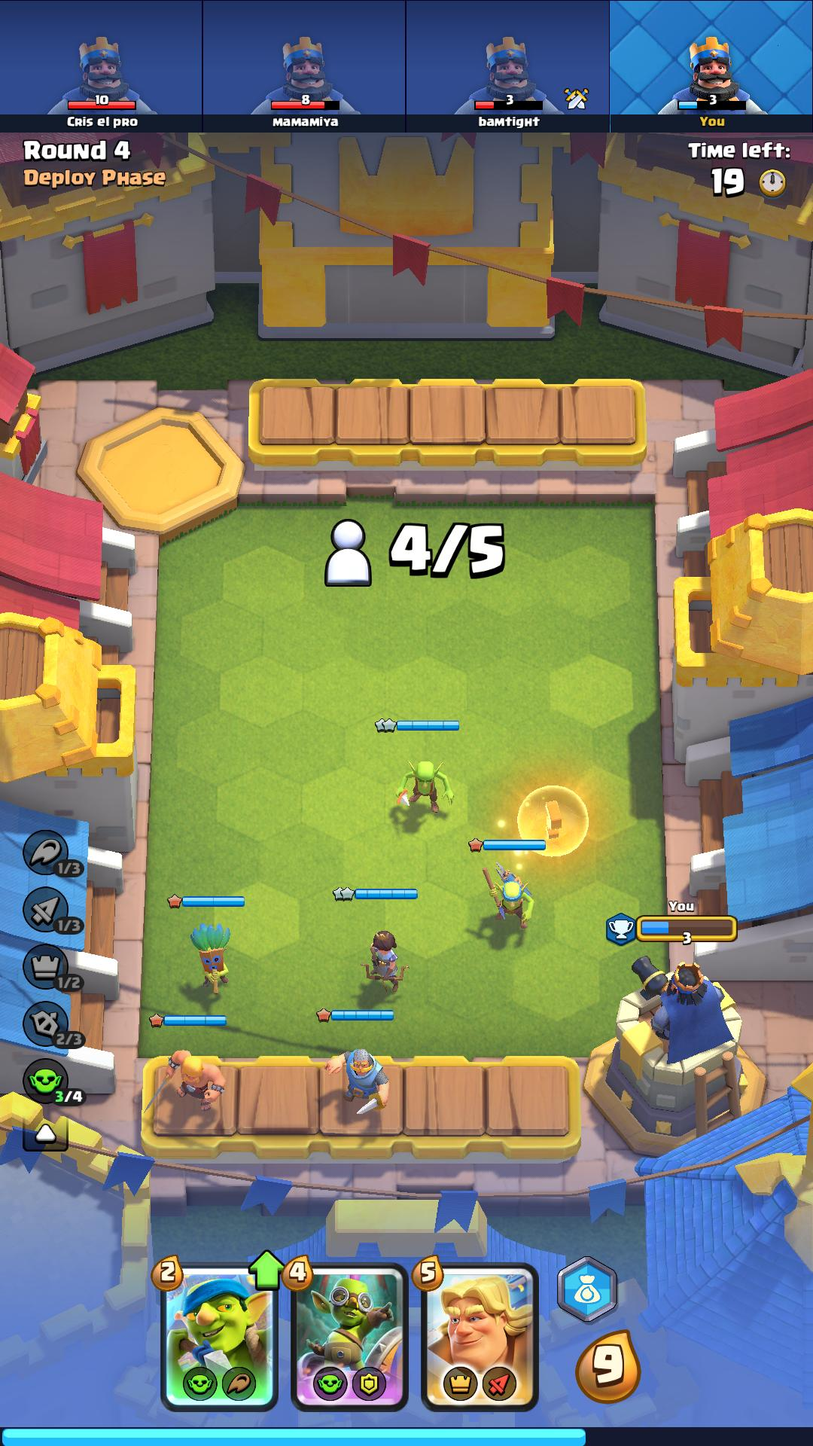barbarian: (141, 1044, 231, 1115)
dart: (184, 918, 241, 997)
goblin: (384, 755, 462, 814)
hand-golden: (420, 1266, 536, 1406)
hand-machine: (293, 1263, 405, 1409)
hand-spear: (161, 1265, 276, 1409)
knight: (321, 1037, 400, 1121)
orb: (513, 782, 593, 857)
princess: (348, 921, 417, 992)
spear: (473, 860, 542, 934)
upgrade: (241, 1244, 286, 1292)
